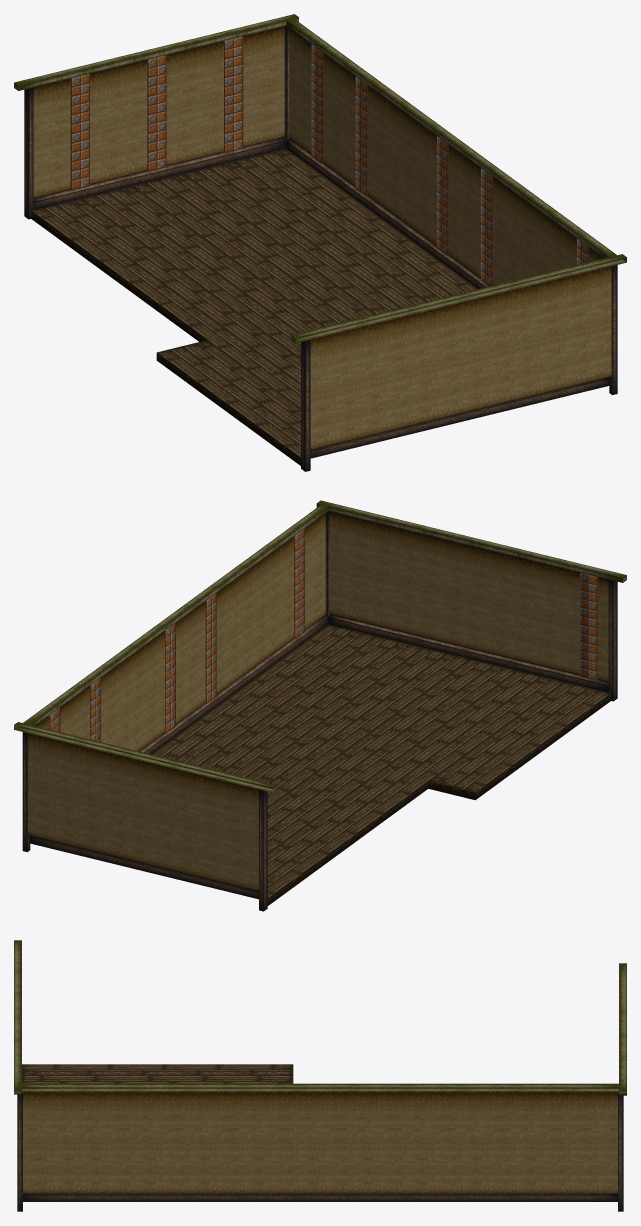
Rendered from EnvBdgMD_Sea_A_Indoor_Inn_A.FBX.
3 renders of one model, top to bottom at view 1: azimuth 30°, elevation 25°; view 2: azimuth 150°, elevation 25°; view 3: azimuth 270°, elevation 25°, orthographic. The views are drawn at different scales.
Parts seen in each view (by area): view 1: EnvBdgMD_Sea_A_Indoor_Inn_A; view 2: EnvBdgMD_Sea_A_Indoor_Inn_A; view 3: EnvBdgMD_Sea_A_Indoor_Inn_A.
Part boxes in pixels (left/top/right/bottom): EnvBdgMD_Sea_A_Indoor_Inn_A: left=14, top=14, right=626, bottom=471; EnvBdgMD_Sea_A_Indoor_Inn_A: left=14, top=500, right=626, bottom=911; EnvBdgMD_Sea_A_Indoor_Inn_A: left=14, top=940, right=626, bottom=1211.
Size of the model in its own units: 1300 by 510 by 2255.
Materials: 1 (1 with a texture image).
